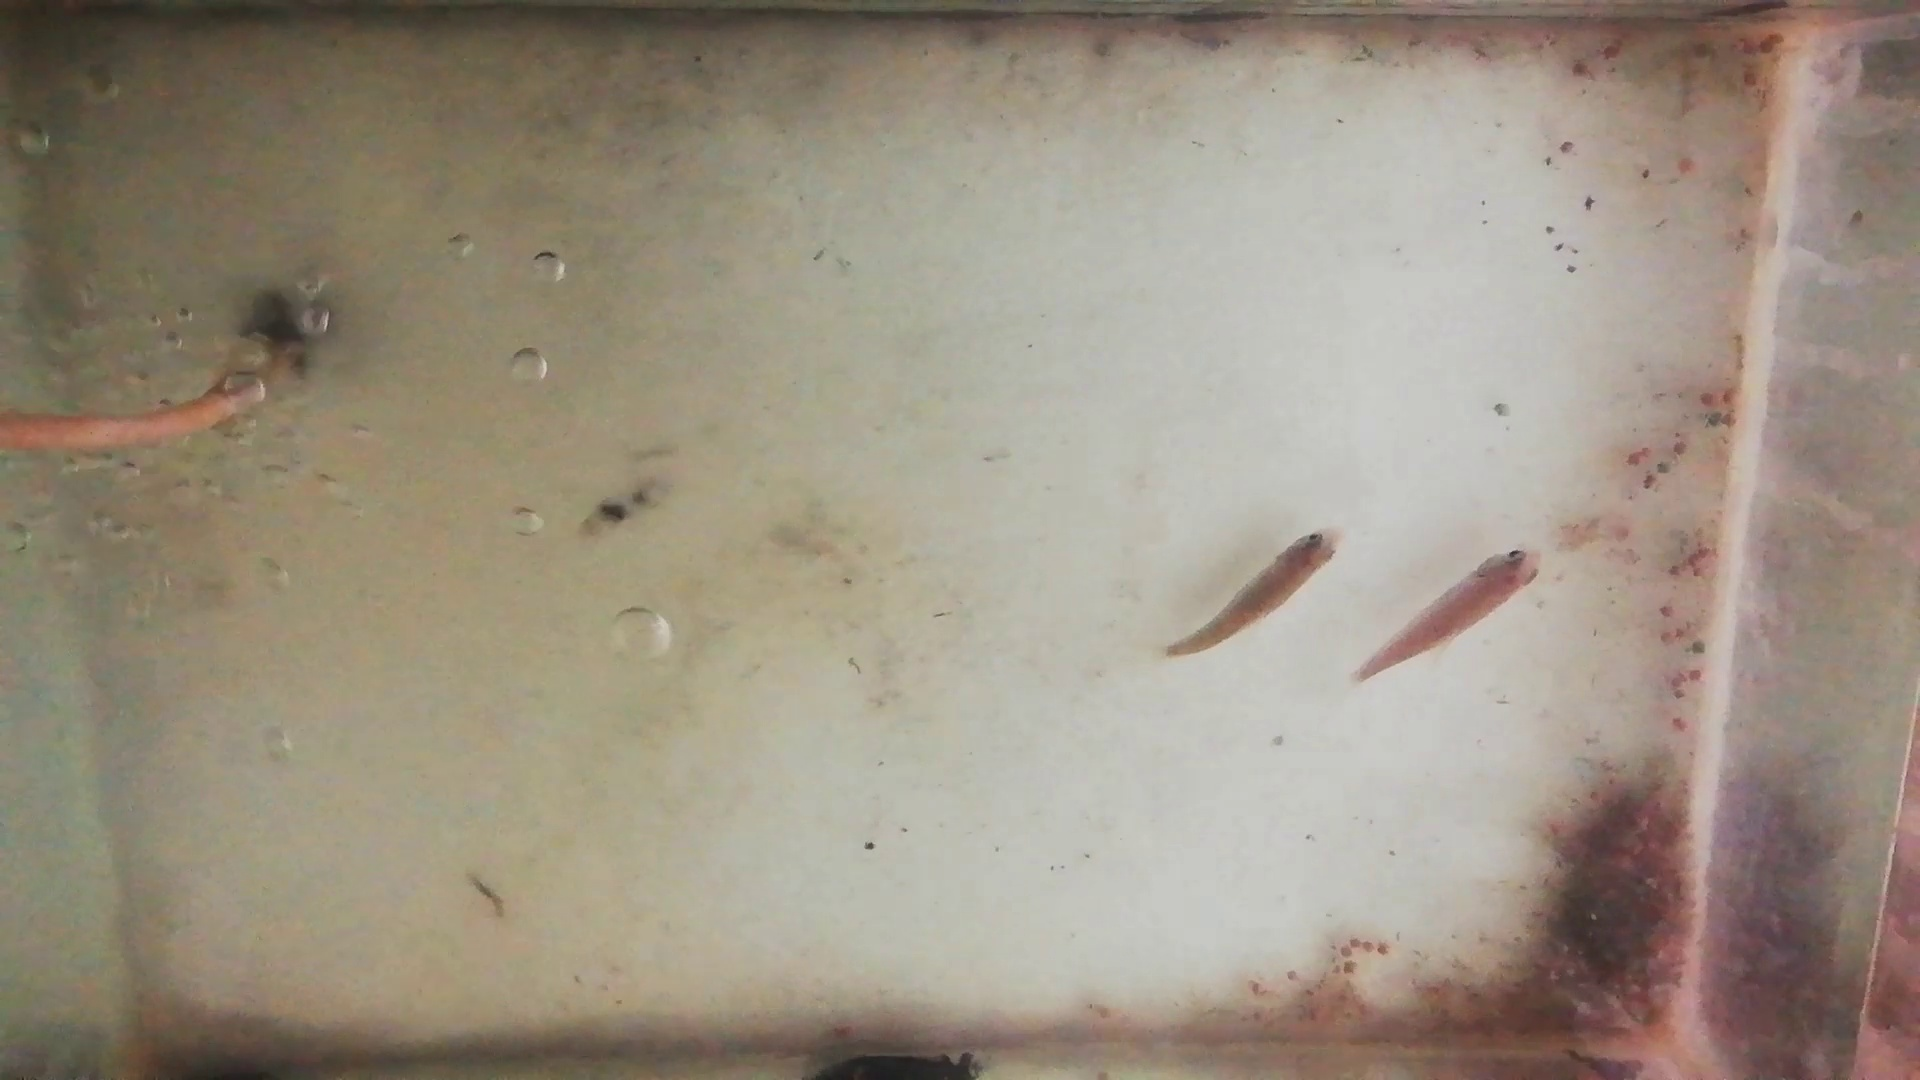fish: (1160, 526, 1346, 659), (1357, 550, 1544, 679)
